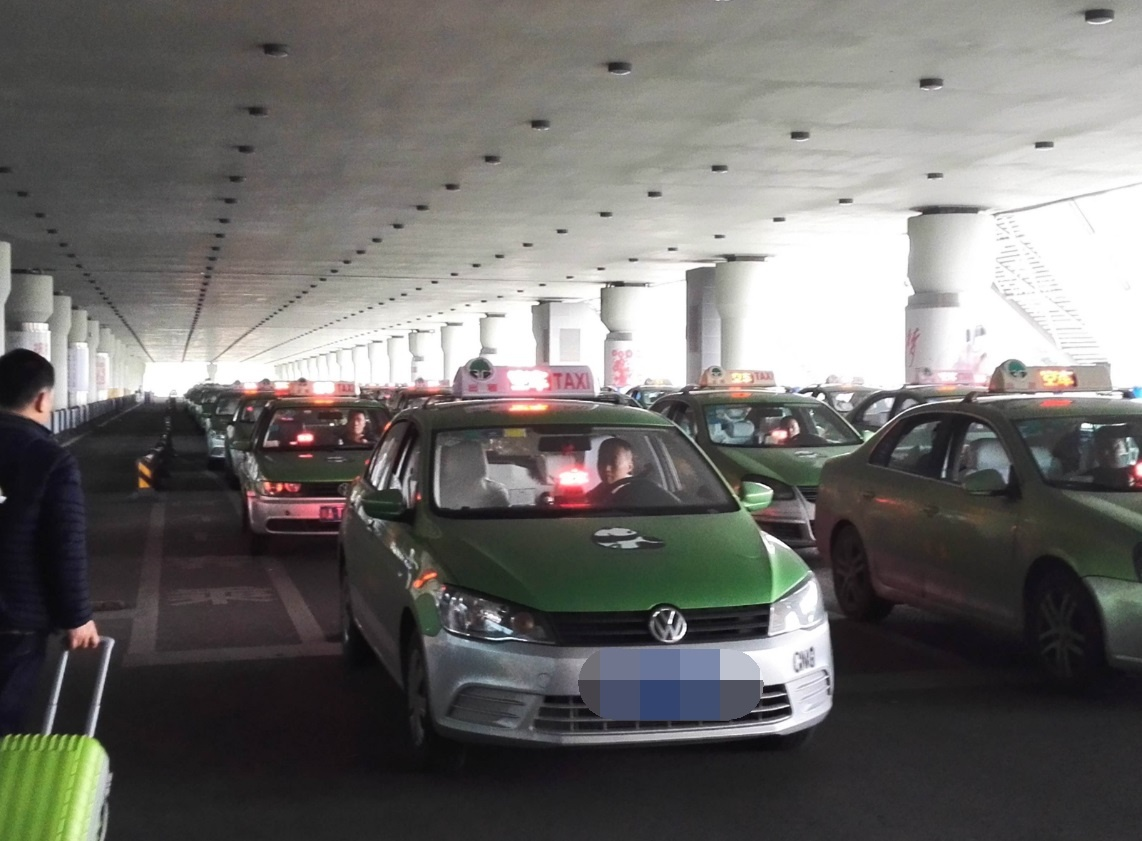taxi: (325, 383, 841, 758), (818, 399, 1136, 663), (653, 393, 874, 535), (231, 398, 415, 544)
